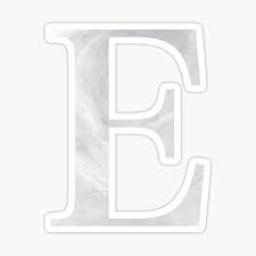e: (43, 20, 217, 236)
